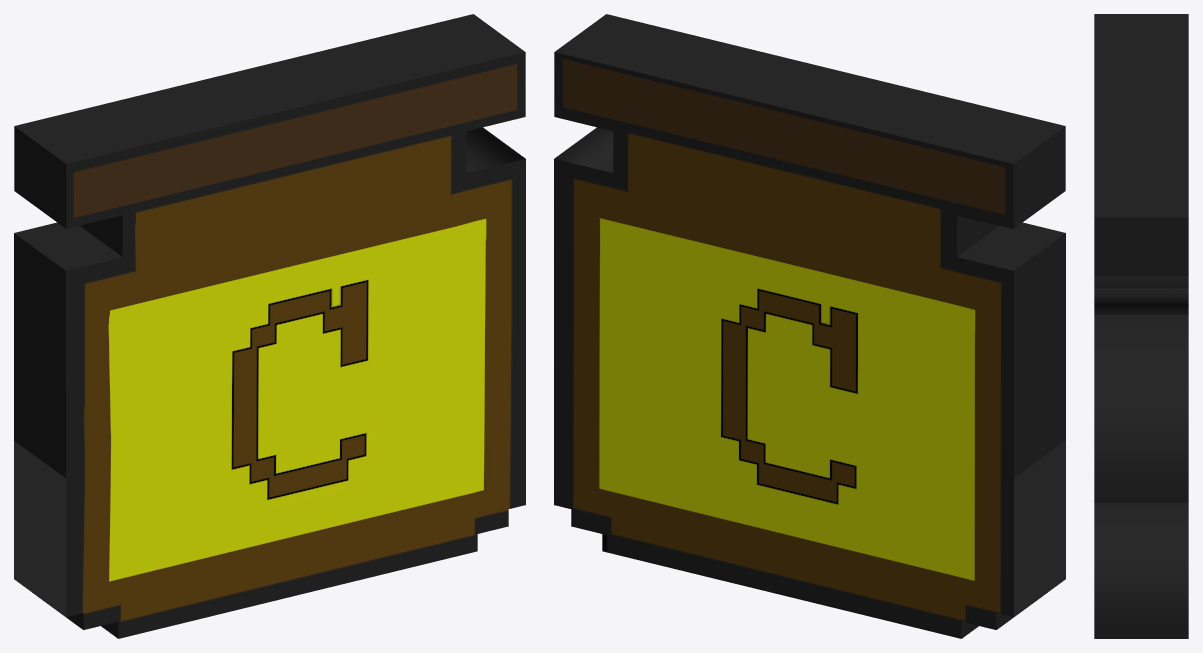
Rendered from Cafeina.FBX.
The picture shows the model from 3 angles, left to right: view 1: azimuth 30°, elevation 25°; view 2: azimuth 150°, elevation 25°; view 3: azimuth 270°, elevation 25°; orthographic projection. The views are drawn at different scales.
Parts seen in each view (by area): view 1: Cafeina; view 2: Cafeina; view 3: Cafeina.
Boxes of the visible parts, bbox=[...] form: Cafeina: bbox=[14, 14, 525, 638]; Cafeina: bbox=[554, 14, 1065, 638]; Cafeina: bbox=[1094, 14, 1188, 638].
Bounding box in the file's own units: 1179 × 1195 × 231.
Materials: 1 (1 with a texture image).
